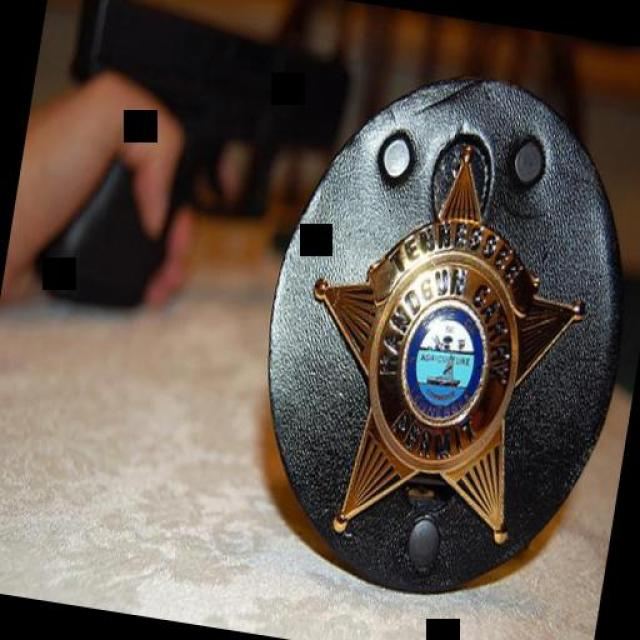gun: (29, 0, 358, 338)
